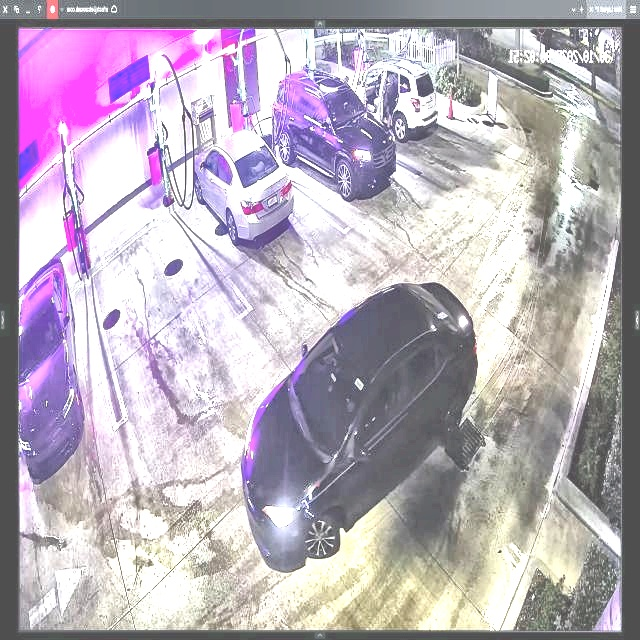Car: (242, 273, 480, 571), (274, 68, 391, 195), (195, 130, 294, 242)
